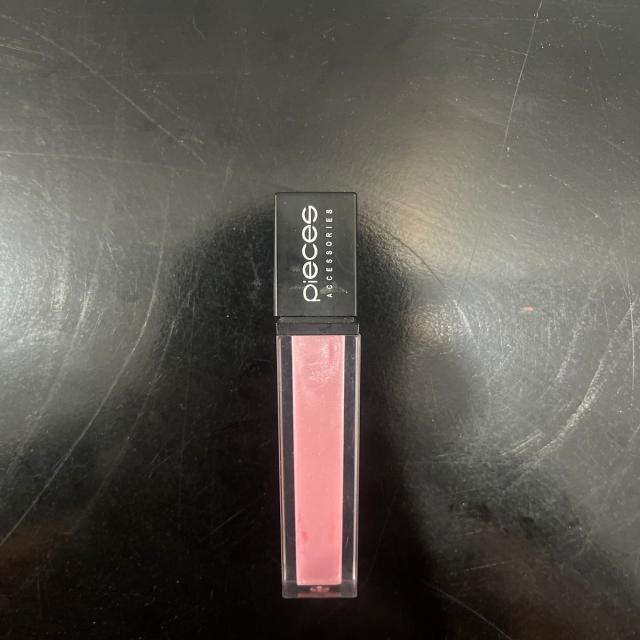lip gloss: (241, 177, 393, 622)
